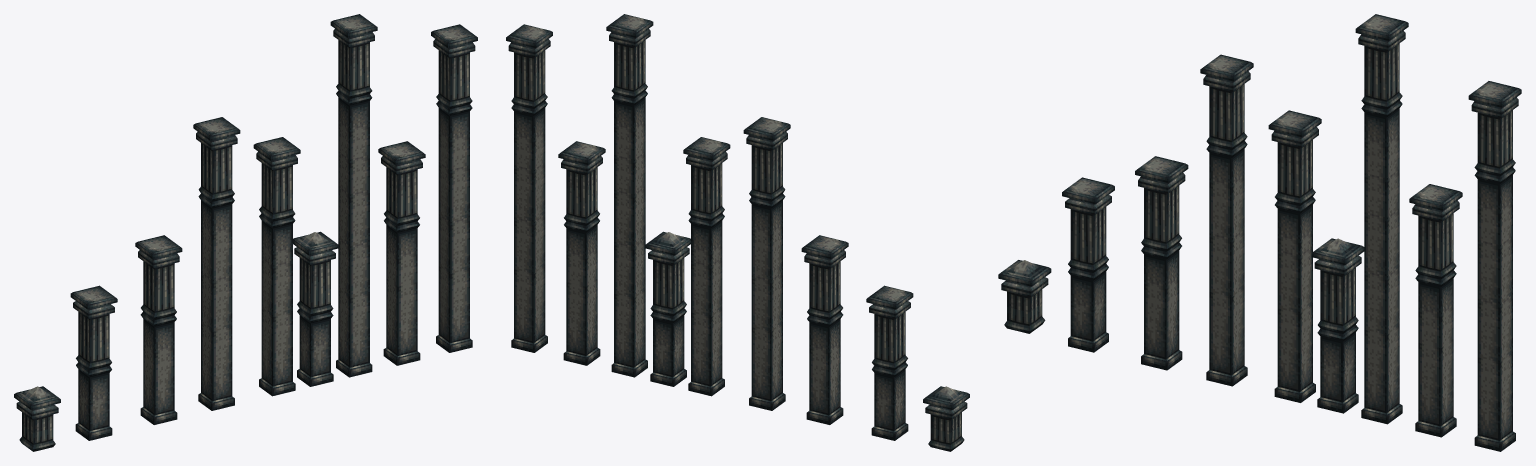
File: EnvMdrMD_Daiseidou_B_Shrine_Pillar_B_400H.FBX
The picture shows the model from 3 angles, left to right: view 1: azimuth 30°, elevation 25°; view 2: azimuth 150°, elevation 25°; view 3: azimuth 330°, elevation 25°; orthographic projection. The views are drawn at different scales.
Parts seen in each view (by area): view 1: EnvMdrMD_Daiseidou_B_Shrine_Pillar_B_1000H, EnvMdrMD_Daiseidou_B_Shrine_Pillar_B_900H, EnvMdrMD_Daiseidou_B_Shrine_Pillar_B_800H, EnvMdrMD_Daiseidou_B_Shrine_Pillar_B_700H, EnvMdrMD_Daiseidou_B_Shrine_Pillar_B_600H, EnvMdrMD_Daiseidou_B_Shrine_Pillar_B_500H, EnvMdrMD_Daiseidou_B_Shrine_Pillar_B_400H, EnvMdrMD_Daiseidou_B_Shrine_Pillar_C_400H, EnvMdrMD_Daiseidou_B_Shrine_Pillar_C_175H; view 2: EnvMdrMD_Daiseidou_B_Shrine_Pillar_B_1000H, EnvMdrMD_Daiseidou_B_Shrine_Pillar_B_900H, EnvMdrMD_Daiseidou_B_Shrine_Pillar_B_800H, EnvMdrMD_Daiseidou_B_Shrine_Pillar_B_700H, EnvMdrMD_Daiseidou_B_Shrine_Pillar_B_600H, EnvMdrMD_Daiseidou_B_Shrine_Pillar_B_500H, EnvMdrMD_Daiseidou_B_Shrine_Pillar_B_400H, EnvMdrMD_Daiseidou_B_Shrine_Pillar_C_400H, EnvMdrMD_Daiseidou_B_Shrine_Pillar_C_175H; view 3: EnvMdrMD_Daiseidou_B_Shrine_Pillar_B_1000H, EnvMdrMD_Daiseidou_B_Shrine_Pillar_B_900H, EnvMdrMD_Daiseidou_B_Shrine_Pillar_B_800H, EnvMdrMD_Daiseidou_B_Shrine_Pillar_B_700H, EnvMdrMD_Daiseidou_B_Shrine_Pillar_B_600H, EnvMdrMD_Daiseidou_B_Shrine_Pillar_B_500H, EnvMdrMD_Daiseidou_B_Shrine_Pillar_B_400H, EnvMdrMD_Daiseidou_B_Shrine_Pillar_C_400H, EnvMdrMD_Daiseidou_B_Shrine_Pillar_C_175H.
Boxes of the visible parts, bbox=[...] form: EnvMdrMD_Daiseidou_B_Shrine_Pillar_B_1000H: bbox=[330, 14, 377, 377]; EnvMdrMD_Daiseidou_B_Shrine_Pillar_B_900H: bbox=[431, 24, 477, 352]; EnvMdrMD_Daiseidou_B_Shrine_Pillar_B_800H: bbox=[193, 117, 240, 410]; EnvMdrMD_Daiseidou_B_Shrine_Pillar_B_700H: bbox=[253, 137, 300, 396]; EnvMdrMD_Daiseidou_B_Shrine_Pillar_B_600H: bbox=[378, 141, 425, 365]; EnvMdrMD_Daiseidou_B_Shrine_Pillar_B_500H: bbox=[135, 235, 182, 424]; EnvMdrMD_Daiseidou_B_Shrine_Pillar_B_400H: bbox=[70, 285, 117, 440]; EnvMdrMD_Daiseidou_B_Shrine_Pillar_C_400H: bbox=[293, 231, 338, 386]; EnvMdrMD_Daiseidou_B_Shrine_Pillar_C_175H: bbox=[14, 386, 60, 451]; EnvMdrMD_Daiseidou_B_Shrine_Pillar_B_1000H: bbox=[606, 14, 653, 377]; EnvMdrMD_Daiseidou_B_Shrine_Pillar_B_900H: bbox=[506, 24, 552, 352]; EnvMdrMD_Daiseidou_B_Shrine_Pillar_B_800H: bbox=[743, 117, 790, 410]; EnvMdrMD_Daiseidou_B_Shrine_Pillar_B_700H: bbox=[683, 137, 730, 396]; EnvMdrMD_Daiseidou_B_Shrine_Pillar_B_600H: bbox=[558, 141, 605, 365]; EnvMdrMD_Daiseidou_B_Shrine_Pillar_B_500H: bbox=[801, 235, 848, 424]; EnvMdrMD_Daiseidou_B_Shrine_Pillar_B_400H: bbox=[866, 285, 913, 440]; EnvMdrMD_Daiseidou_B_Shrine_Pillar_C_400H: bbox=[645, 231, 690, 386]; EnvMdrMD_Daiseidou_B_Shrine_Pillar_C_175H: bbox=[923, 386, 969, 451]; EnvMdrMD_Daiseidou_B_Shrine_Pillar_B_1000H: bbox=[1355, 14, 1408, 424]; EnvMdrMD_Daiseidou_B_Shrine_Pillar_B_900H: bbox=[1468, 81, 1521, 451]; EnvMdrMD_Daiseidou_B_Shrine_Pillar_B_800H: bbox=[1200, 54, 1253, 386]; EnvMdrMD_Daiseidou_B_Shrine_Pillar_B_700H: bbox=[1268, 110, 1321, 402]; EnvMdrMD_Daiseidou_B_Shrine_Pillar_B_600H: bbox=[1409, 184, 1462, 437]; EnvMdrMD_Daiseidou_B_Shrine_Pillar_B_500H: bbox=[1135, 156, 1188, 370]; EnvMdrMD_Daiseidou_B_Shrine_Pillar_B_400H: bbox=[1062, 177, 1114, 352]; EnvMdrMD_Daiseidou_B_Shrine_Pillar_C_400H: bbox=[1311, 238, 1364, 413]; EnvMdrMD_Daiseidou_B_Shrine_Pillar_C_175H: bbox=[998, 260, 1051, 333].
Bounding box in the file's own units: 1347 × 1000 × 90.
Materials: 1 (1 with a texture image).
